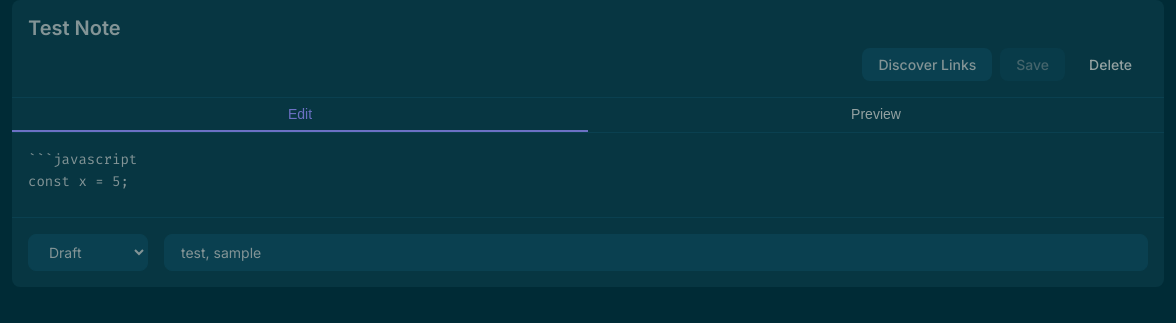
NoteEditor › Markdown Rendering › renders code blocks in preview
Click the button with class "tab-btn" showing "Preview" at (876, 115), box 588,98 -> 1164,132
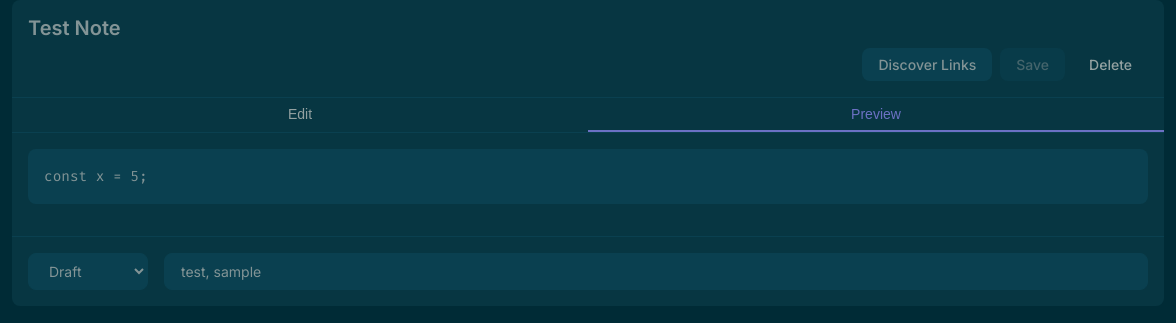
Check: the element with class "editor-preview" reads "const x = 5;", box 44,167 -> 148,186
